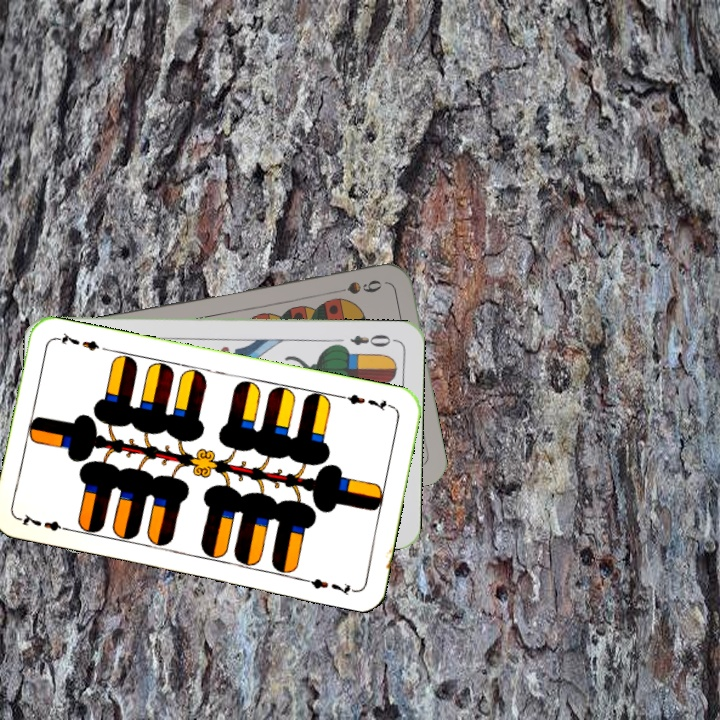E7: (337, 389, 396, 414), (17, 510, 75, 535)
EO: (346, 330, 398, 349)
S9: (327, 276, 385, 297)
